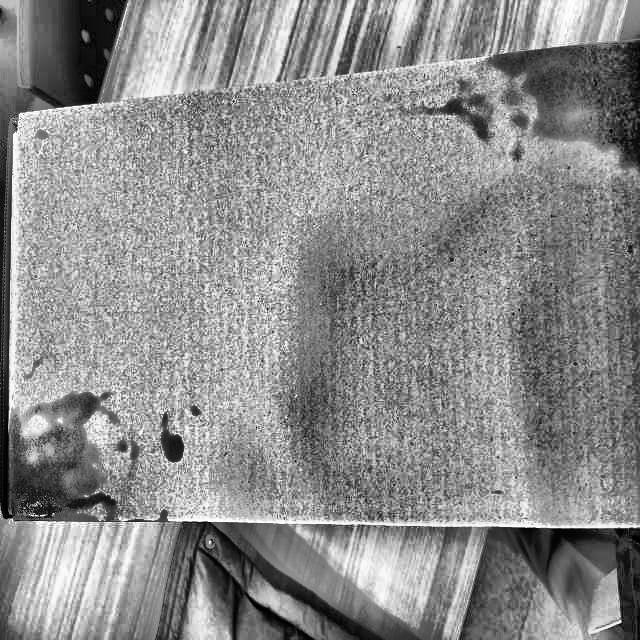box: (0, 39, 639, 528)
wet: (487, 46, 640, 172), (12, 394, 120, 513)
